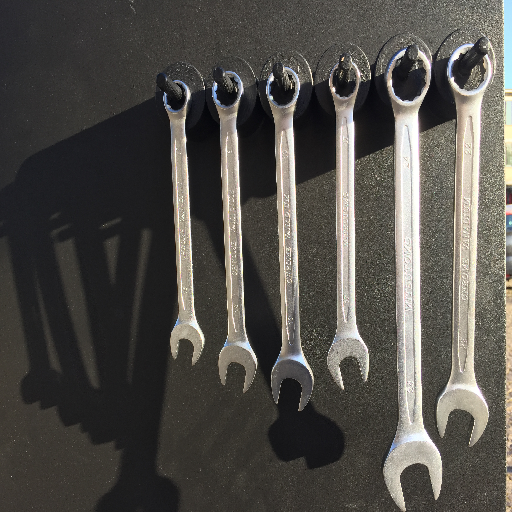bottom: (381, 431, 446, 512), (432, 377, 490, 448), (268, 352, 317, 415), (324, 334, 373, 393), (216, 339, 260, 396), (165, 318, 209, 368)
top: (380, 43, 434, 113), (443, 40, 495, 103), (262, 64, 305, 116), (208, 69, 248, 116), (326, 58, 364, 107), (160, 77, 195, 119)
